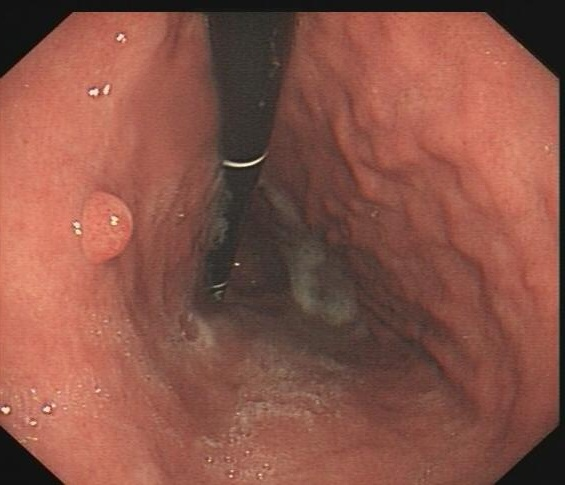Polyp: (66, 186, 143, 274)
